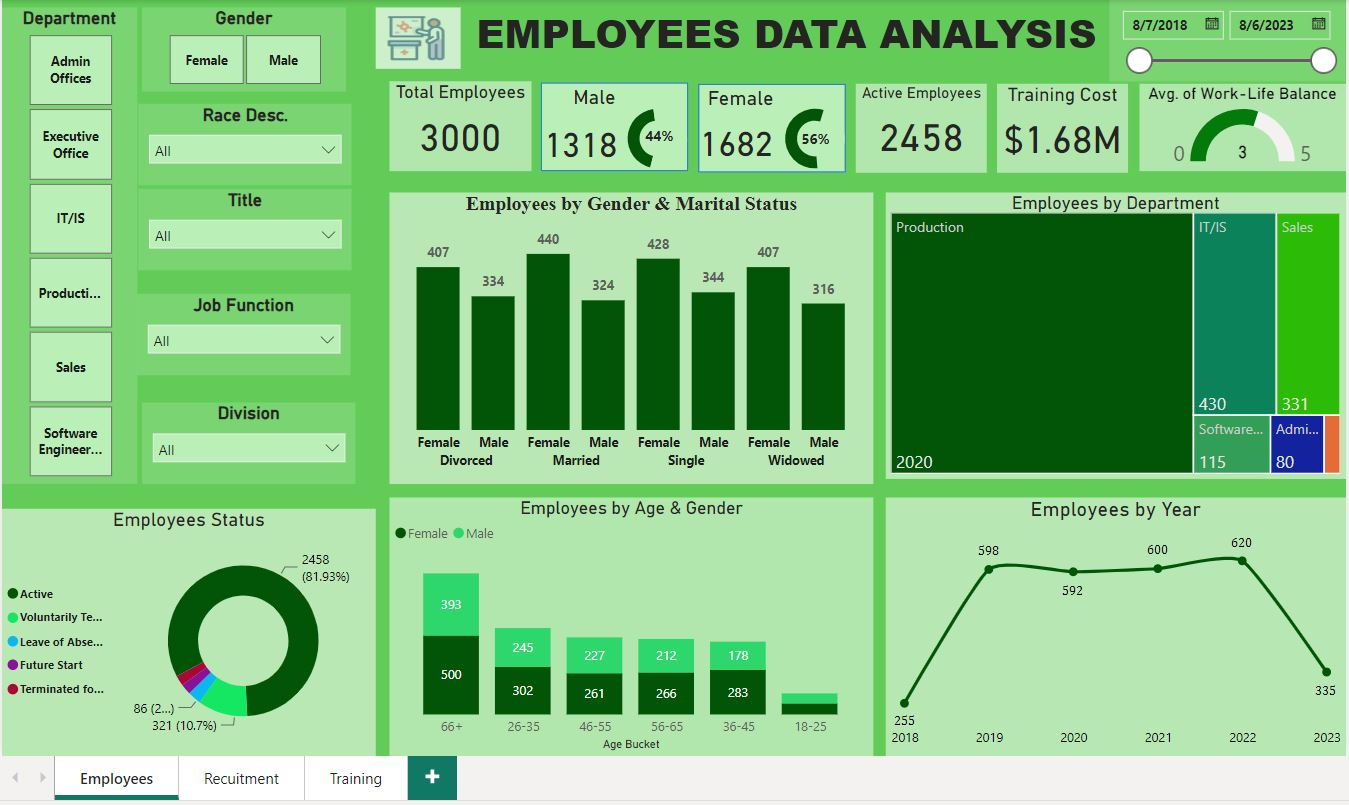

What the dashboard file says about the page in this screenshot:
{"tool":"powerbi","page":{"name":"Employees","canvas":[1280,720],"ordinal":0},"visuals":[{"type":"shape","title":"Male","box":[663.3,79.2,140.5,84.5],"z":0},{"type":"card","title":"Total Employees","fields":{"Values":["All Measurement.Total employees"]},"box":[369,77.4,135,85.7],"z":1000},{"type":"card","title":"Training Cost","fields":{"Values":["All Measurement.Training cost sum"]},"box":[947.6,79.8,125,84.5],"z":2000},{"type":"card","fields":{"Values":["All Measurement.Total female"]},"box":[654.8,104.8,89.3,60.7],"z":3000},{"type":"textbox","box":[439.3,0,615.5,65.5],"z":4000},{"type":"slicer","title":"Department","fields":{"Values":["Employee_data.DepartmentType"]},"box":[0,7.1,128.6,453.6],"z":5000},{"type":"slicer","title":"Title","fields":{"Values":["Employee_data.Title"]},"box":[129.8,179.8,203.6,77.4],"z":6000},{"type":"slicer","title":"Gender","fields":{"Values":["Employee_data.GenderCode"]},"box":[133.3,7.1,194,79.8],"z":7000},{"type":"slicer","title":"Job Function","fields":{"Values":["Employee_data.JobFunctionDescription"]},"box":[128.6,279.8,203.6,77.4],"z":8000},{"type":"slicer","title":"Division ","fields":{"Values":["Employee_data.Division"]},"box":[133.3,383.3,203.6,77.4],"z":9000},{"type":"slicer","title":"Race Desc.","fields":{"Values":["Employee_data.RaceDesc"]},"box":[129.8,98.8,203.6,77.4],"z":10000},{"type":"clusteredColumnChart","title":"Employees by Gender & Marital Status ","fields":{"Category":["Employee_data.MaritalDesc","Employee_data.GenderCode"],"Y":["All Measurement.Total employees"]},"box":[369,183.3,460.7,277.4],"z":11000},{"type":"treemap","title":" Employees by Department","fields":{"Values":["All Measurement.Total employees"],"Group":["Employee_data.DepartmentType"]},"box":[841.7,183.3,438.1,272.6],"z":12000},{"type":"lineChart","title":"Employees by Year","fields":{"Y":["All Measurement.Total employees"],"Category":["Employee_data.StartDate.Variation.Date Hierarchy.Year"]},"box":[841.7,473.8,438.1,246.4],"z":13000},{"type":"columnChart","title":"Employees by Age  & Gender","fields":{"Y":["All Measurement.Total employees"],"Series":["Employee_data.GenderCode"],"Category":["Employee_data.Age Bucket"]},"box":[369,473.8,460.7,246.4],"z":14000},{"type":"card","title":"Active Employees","fields":{"Values":["All Measurement.Total active"]},"box":[813.2,79.5,125,84.5],"z":15000},{"type":"donutChart","title":"Employees Status","fields":{"Y":["All Measurement.Total employees"],"Category":["Employee_data.EmployeeStatus"]},"box":[0,484.5,356,235.7],"z":16000},{"type":"slicer","fields":{"Values":["Employee_data.StartDate"]},"box":[1054.8,0,225,77.4],"z":17000},{"type":"shape","title":"Male","box":[513.5,78.9,140.5,84.5],"z":18000},{"type":"donutChart","fields":{"Y":["All Measurement.total male","All Measurement.Total female"]},"box":[578.8,92.1,91.7,81],"z":19000},{"type":"card","fields":{"Values":["All Measurement.total male"]},"box":[510.7,106,81,59.5],"z":20000},{"type":"card","fields":{"Values":["All Measurement.Male %"]},"box":[605,114.8,42.9,35.7],"z":21000},{"type":"textbox","box":[523.8,76.2,81,44],"z":22000},{"type":"donutChart","fields":{"Y":["All Measurement.total male","All Measurement.Total female"]},"box":[728.6,91.7,91.7,81],"z":23000},{"type":"card","fields":{"Values":["All Measurement.FeMale %"]},"box":[754.1,116.2,42.9,35.7],"z":24000},{"type":"textbox","box":[663.1,77.4,81,36.9],"z":25000},{"type":"actionButton","box":[356,7.1,81,58.3],"z":26000},{"type":"gauge","title":"Avg. of Work-Life Balance","fields":{"Y":["Avg(employee_engagement_survey_data.Work-Life Balance Score)"]},"box":[1083.3,79.8,196.4,83.3],"z":27000}]}

Visuals, with their boxes on the page's 1280x720 design canvas (x1, y1, x2, y2). These are canvas units, not pixel positions in the 1349x805 screenshot, which may show the page scaled, cropped or inside an application window:
"Male" shape: 663, 79, 804, 164
"Total Employees" card: 369, 77, 504, 163
"Training Cost" card: 948, 80, 1073, 164
card - All Measurement.Total female: 655, 105, 744, 166
textbox: 439, 0, 1055, 66
"Department" slicer: 0, 7, 129, 461
"Title" slicer: 130, 180, 333, 257
"Gender" slicer: 133, 7, 327, 87
"Job Function" slicer: 129, 280, 332, 357
"Division " slicer: 133, 383, 337, 461
"Race Desc." slicer: 130, 99, 333, 176
"Employees by Gender & Marital Status " clusteredColumnChart: 369, 183, 830, 461
" Employees by Department" treemap: 842, 183, 1280, 456
"Employees by Year" lineChart: 842, 474, 1280, 720
"Employees by Age  & Gender" columnChart: 369, 474, 830, 720
"Active Employees" card: 813, 80, 938, 164
"Employees Status" donutChart: 0, 484, 356, 720
slicer - Employee_data.StartDate: 1055, 0, 1280, 77
"Male" shape: 514, 79, 654, 163
donutChart - All Measurement.total male x All Measurement.Total female: 579, 92, 670, 173
card - All Measurement.total male: 511, 106, 592, 166
card - All Measurement.Male %: 605, 115, 648, 150
textbox: 524, 76, 605, 120
donutChart - All Measurement.total male x All Measurement.Total female: 729, 92, 820, 173
card - All Measurement.FeMale %: 754, 116, 797, 152
textbox: 663, 77, 744, 114
actionButton: 356, 7, 437, 65
"Avg. of Work-Life Balance" gauge: 1083, 80, 1280, 163
